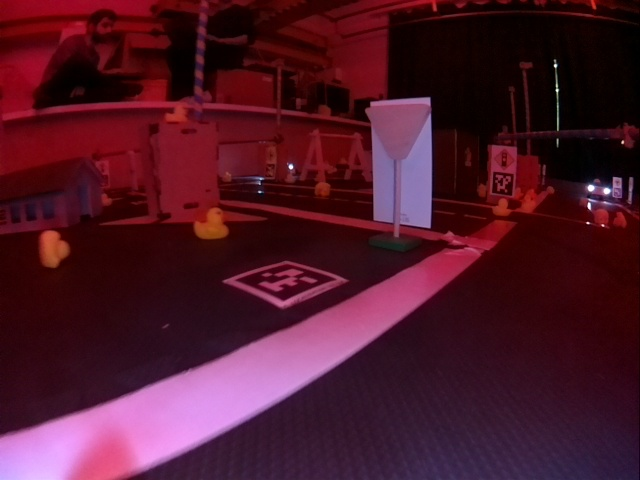Duckie: (40, 228, 70, 265), (195, 210, 228, 241), (163, 103, 189, 123), (314, 181, 332, 196)
QR code: (226, 258, 339, 308), (492, 173, 512, 195)
Signal sign: (495, 148, 514, 169)
